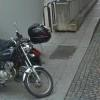Motorcycle: (0, 24, 59, 97)
